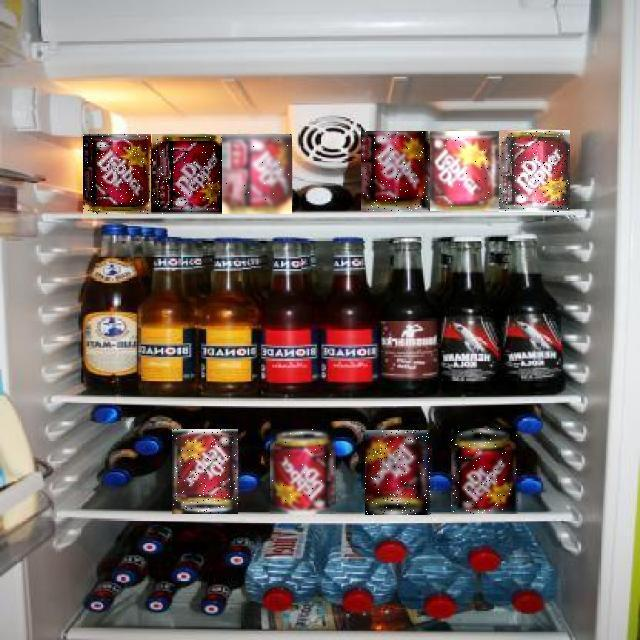Drinks: (452, 428, 520, 514), (499, 130, 570, 212), (366, 430, 432, 515), (270, 429, 336, 514), (173, 429, 239, 514), (222, 135, 292, 215), (152, 134, 222, 214), (430, 131, 499, 211), (83, 134, 151, 214), (362, 132, 430, 212)
